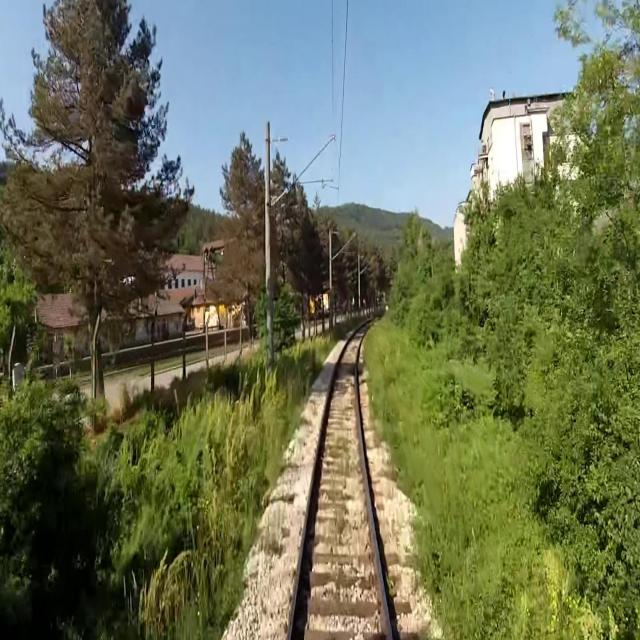rail-track: (291, 319, 389, 639)
